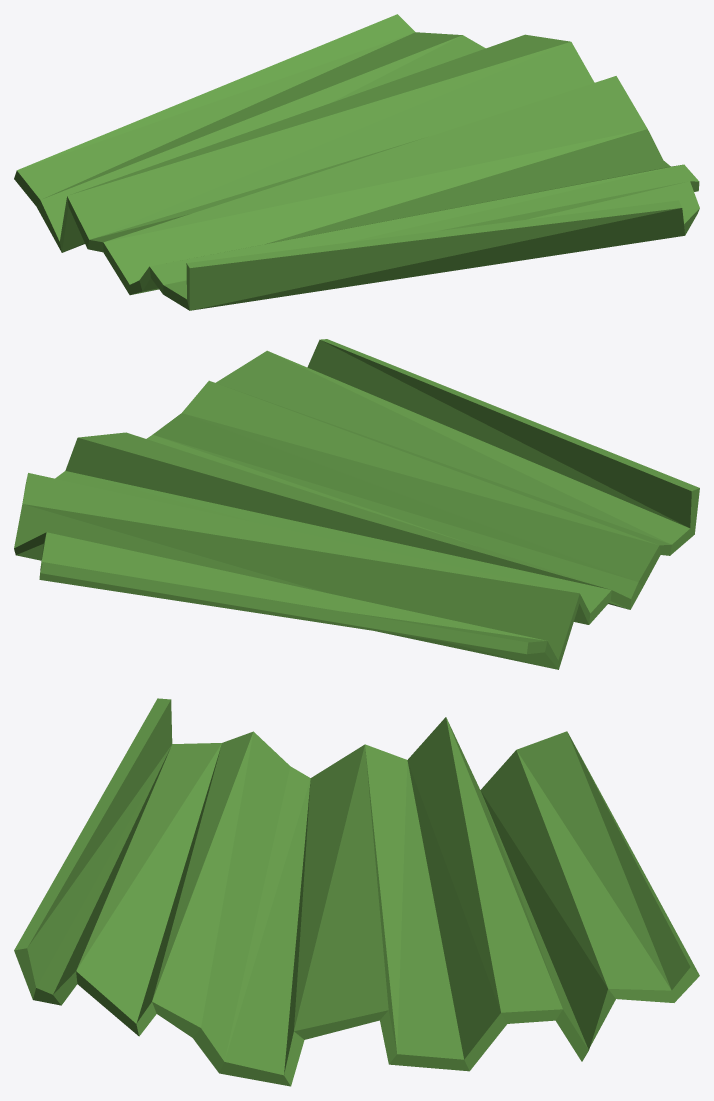
Rendered from lettuce.fbx.
3 views of the same model, one above another, from view 1: azimuth 30°, elevation 25°; view 2: azimuth 150°, elevation 25°; view 3: azimuth 270°, elevation 25° (orthographic). The views are drawn at different scales.
Visible parts, largest first — view 1: Lettuce; view 2: Lettuce; view 3: Lettuce.
Boxes of the visible parts, <box> form: Lettuce: <box>14,14,699,310</box>; Lettuce: <box>14,339,699,669</box>; Lettuce: <box>14,698,699,1086</box>.
Size of the model in its own units: 41.51 by 6.41 by 38.6.
